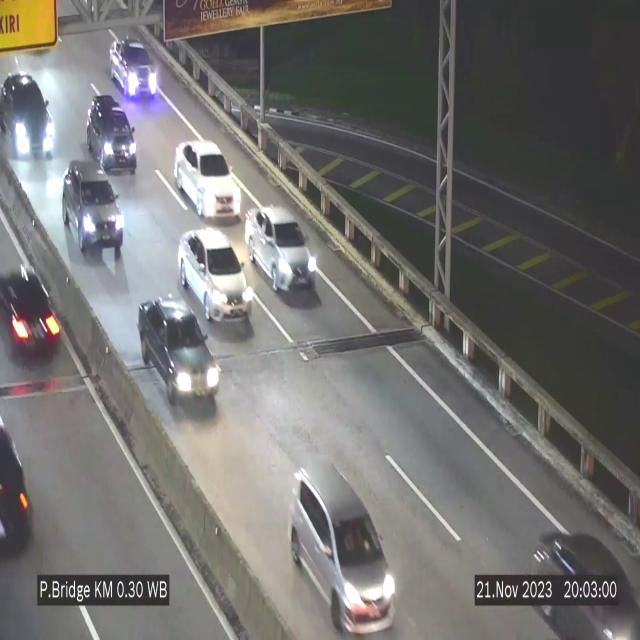Car: (290, 461, 396, 632), (515, 506, 640, 640), (138, 298, 220, 416), (178, 228, 252, 324), (0, 248, 64, 359), (58, 157, 120, 260), (247, 206, 318, 292), (175, 141, 238, 217), (0, 74, 54, 154), (87, 95, 137, 175), (109, 38, 161, 96)
